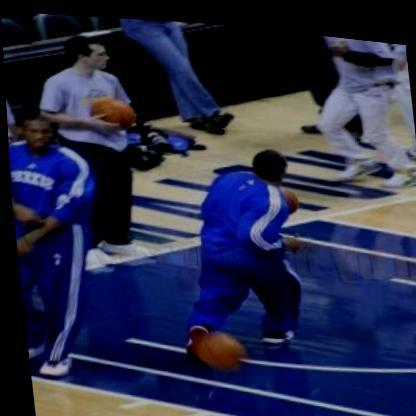basketball: (172, 315, 245, 378), (80, 89, 137, 134)
